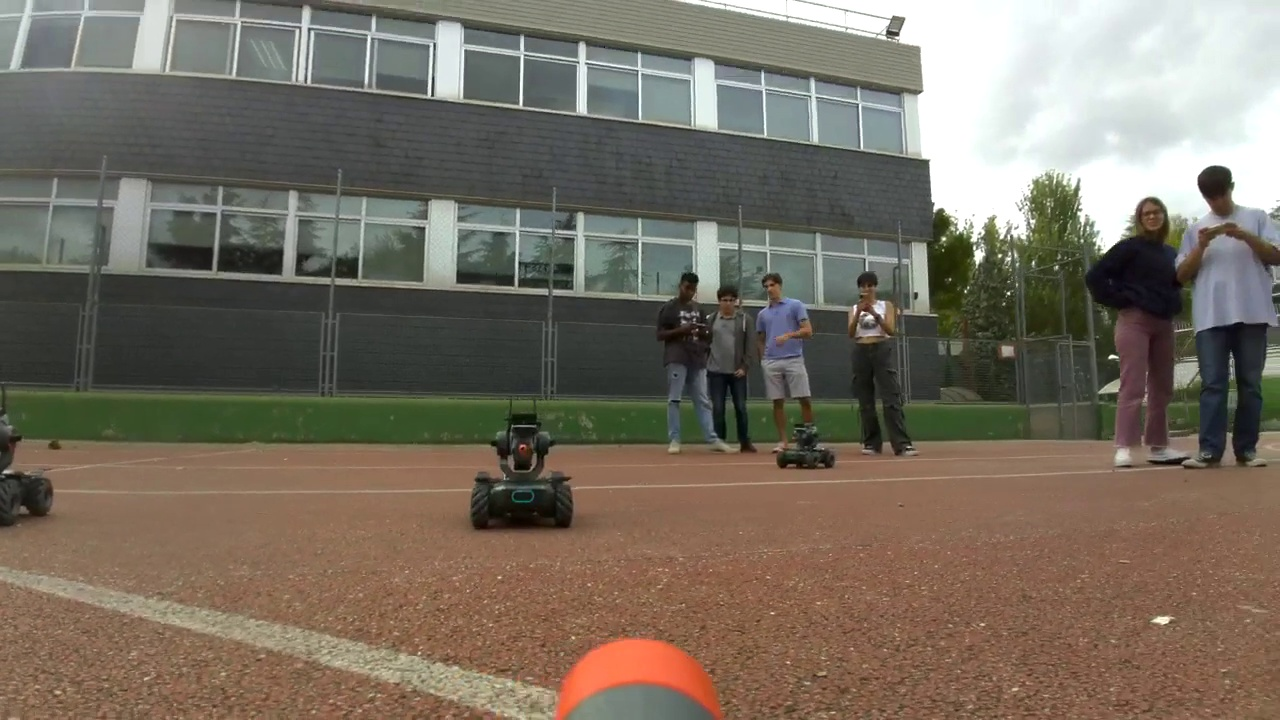robot: (471, 413, 574, 529), (776, 423, 834, 470)
